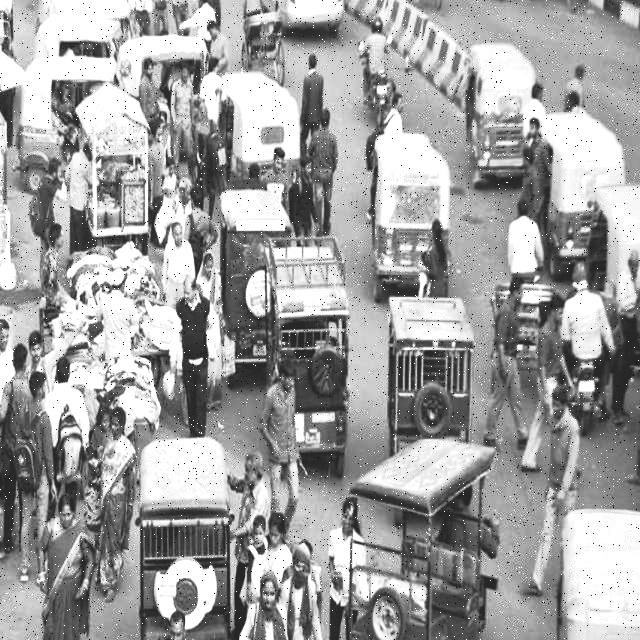Toto: (346, 438, 503, 640), (137, 429, 239, 640), (270, 232, 357, 463), (386, 285, 477, 449)
